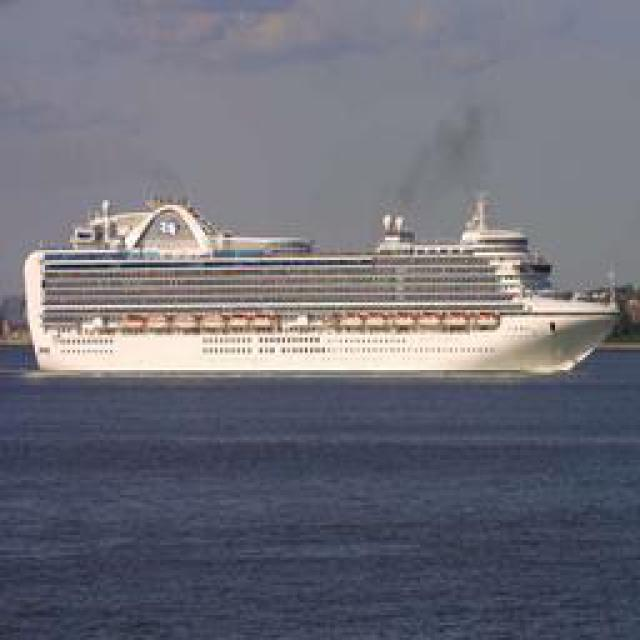Ship: (26, 192, 624, 380)
